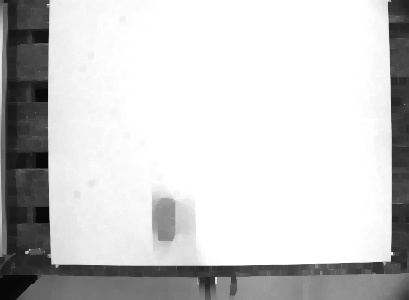b1: (155, 196, 177, 243)
